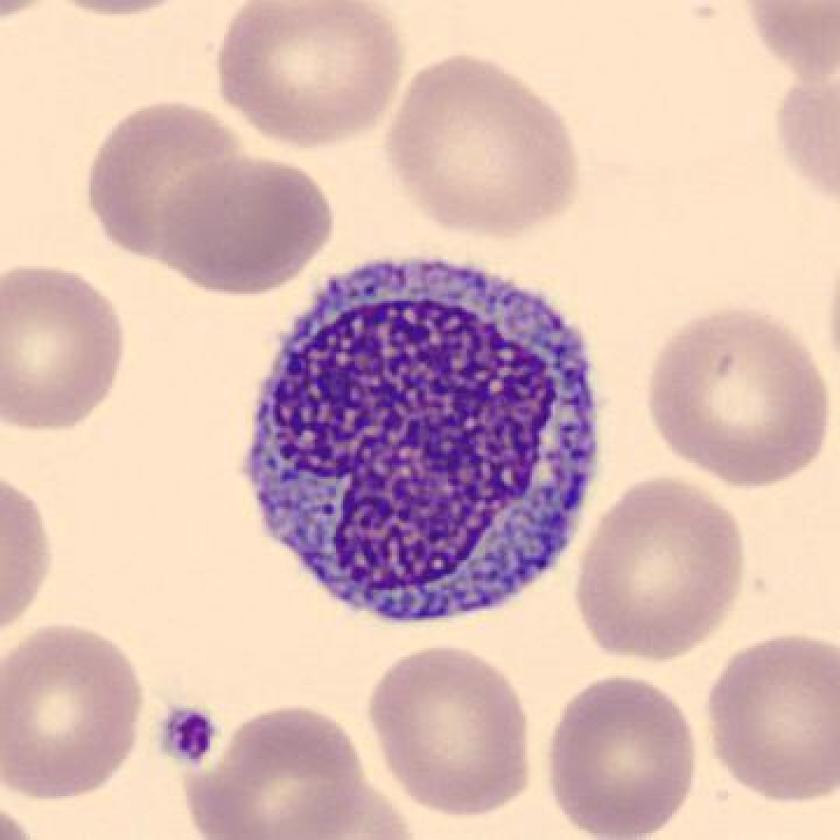monocyte: (230, 232, 622, 642)
